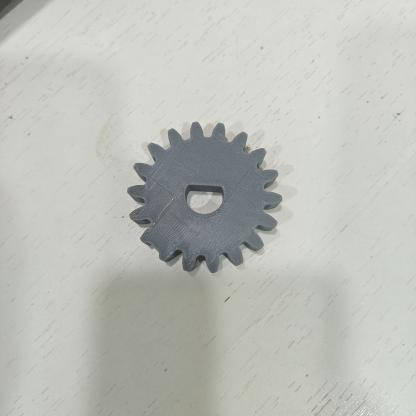defect: (134, 222, 188, 273), (178, 169, 227, 201)
gear: (119, 112, 294, 292)
